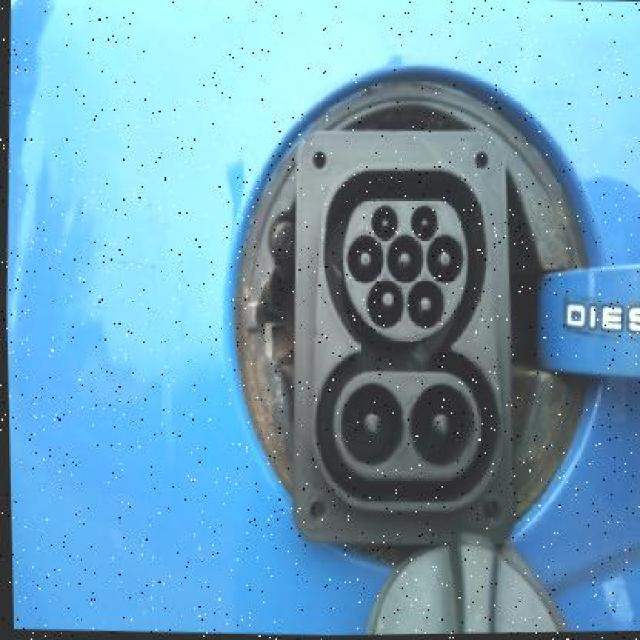CCS2: (290, 130, 514, 542)
